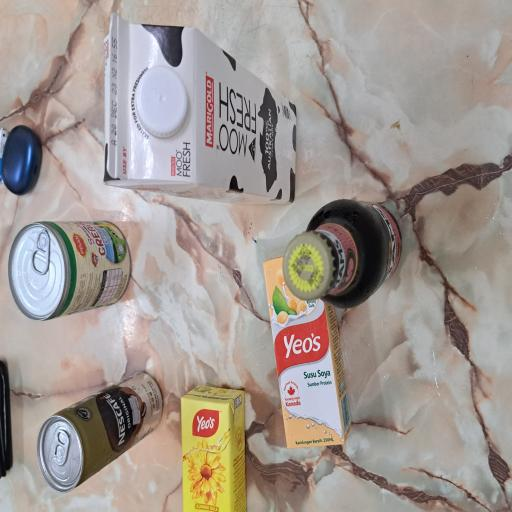can: (15, 49, 106, 218), (143, 10, 219, 176)
drink carton: (228, 136, 374, 396), (48, 350, 192, 471), (0, 241, 99, 330)
glass bottle: (151, 376, 236, 512)
plastic bottle cap: (280, 182, 336, 253)
pop tab: (177, 40, 212, 66), (35, 70, 62, 94)
